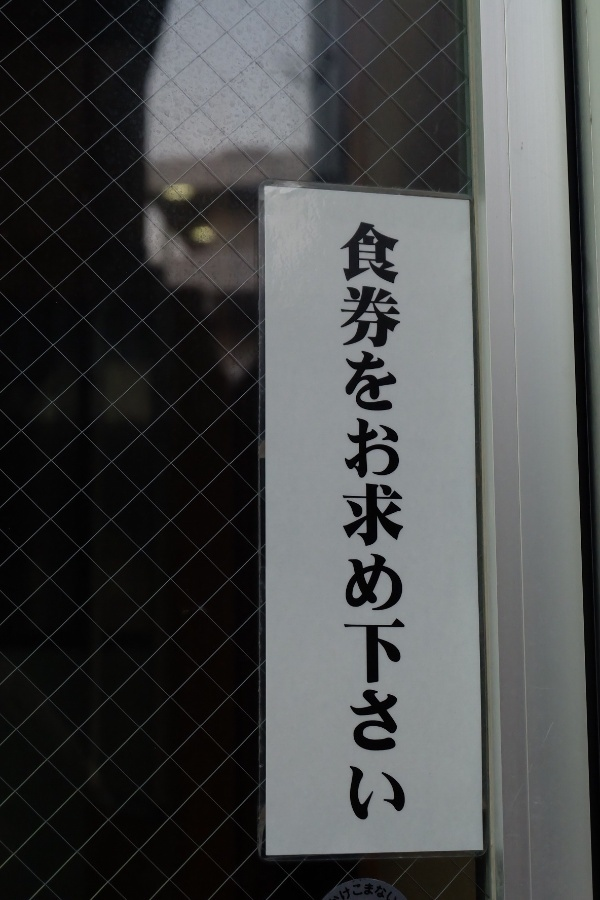text: (353, 220, 368, 823), (369, 220, 384, 823), (385, 220, 400, 823), (340, 220, 352, 823), (401, 220, 408, 823)
